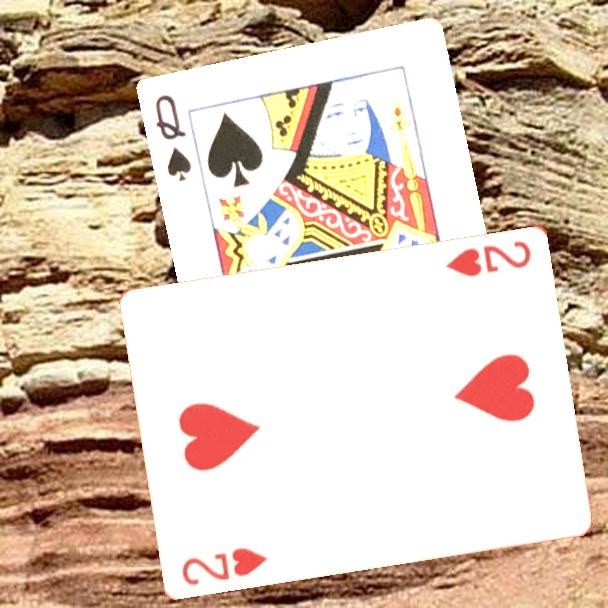h02: (178, 543, 271, 588), (442, 236, 535, 279)
s12: (152, 91, 195, 184)
